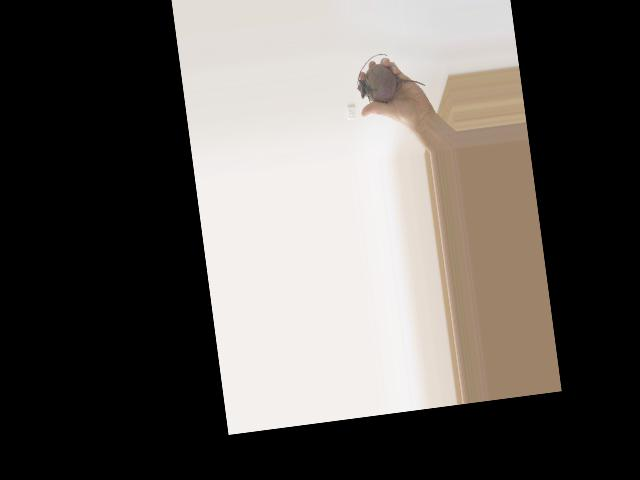beet: (353, 48, 426, 104)
